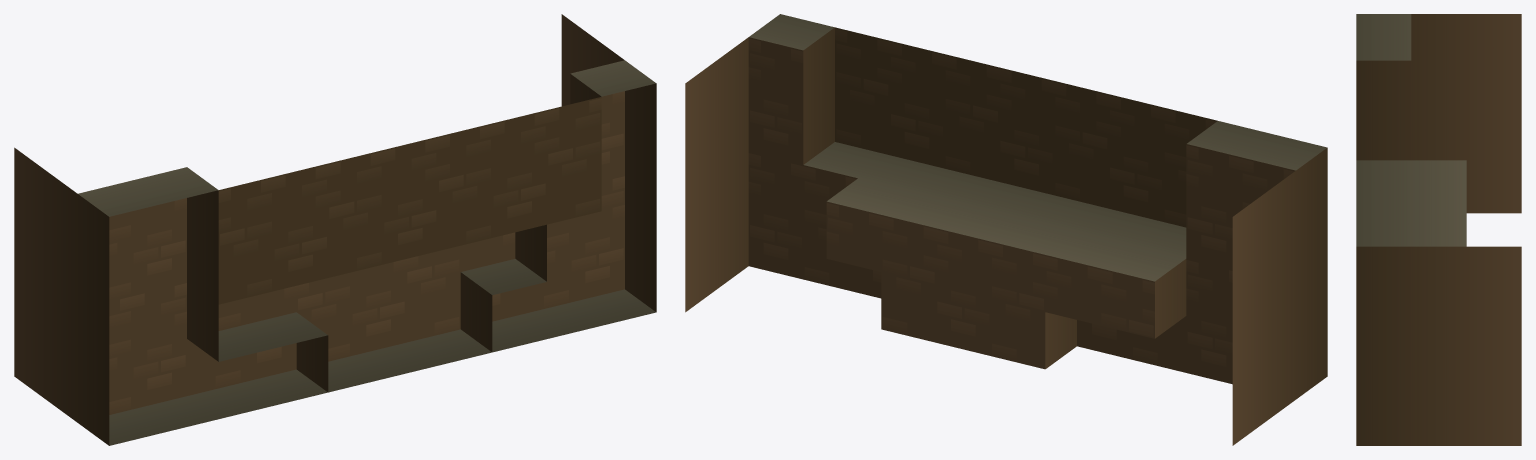
File: SM_Room4_8x20.fbx
3 renders of one model, left to right at view 1: azimuth 30°, elevation 25°; view 2: azimuth 150°, elevation 25°; view 3: azimuth 270°, elevation 25°, orthographic. The views are drawn at different scales.
Parts seen in each view (by area): view 1: SM_Room4_8x20; view 2: SM_Room4_8x20; view 3: SM_Room4_8x20.
Part boxes in pixels (box(x1,y1,x2,y2)): SM_Room4_8x20: box(14, 14, 656, 445); SM_Room4_8x20: box(685, 14, 1327, 445); SM_Room4_8x20: box(1356, 14, 1521, 445).
Size of the model in its own units: 2000 by 600 by 800.
